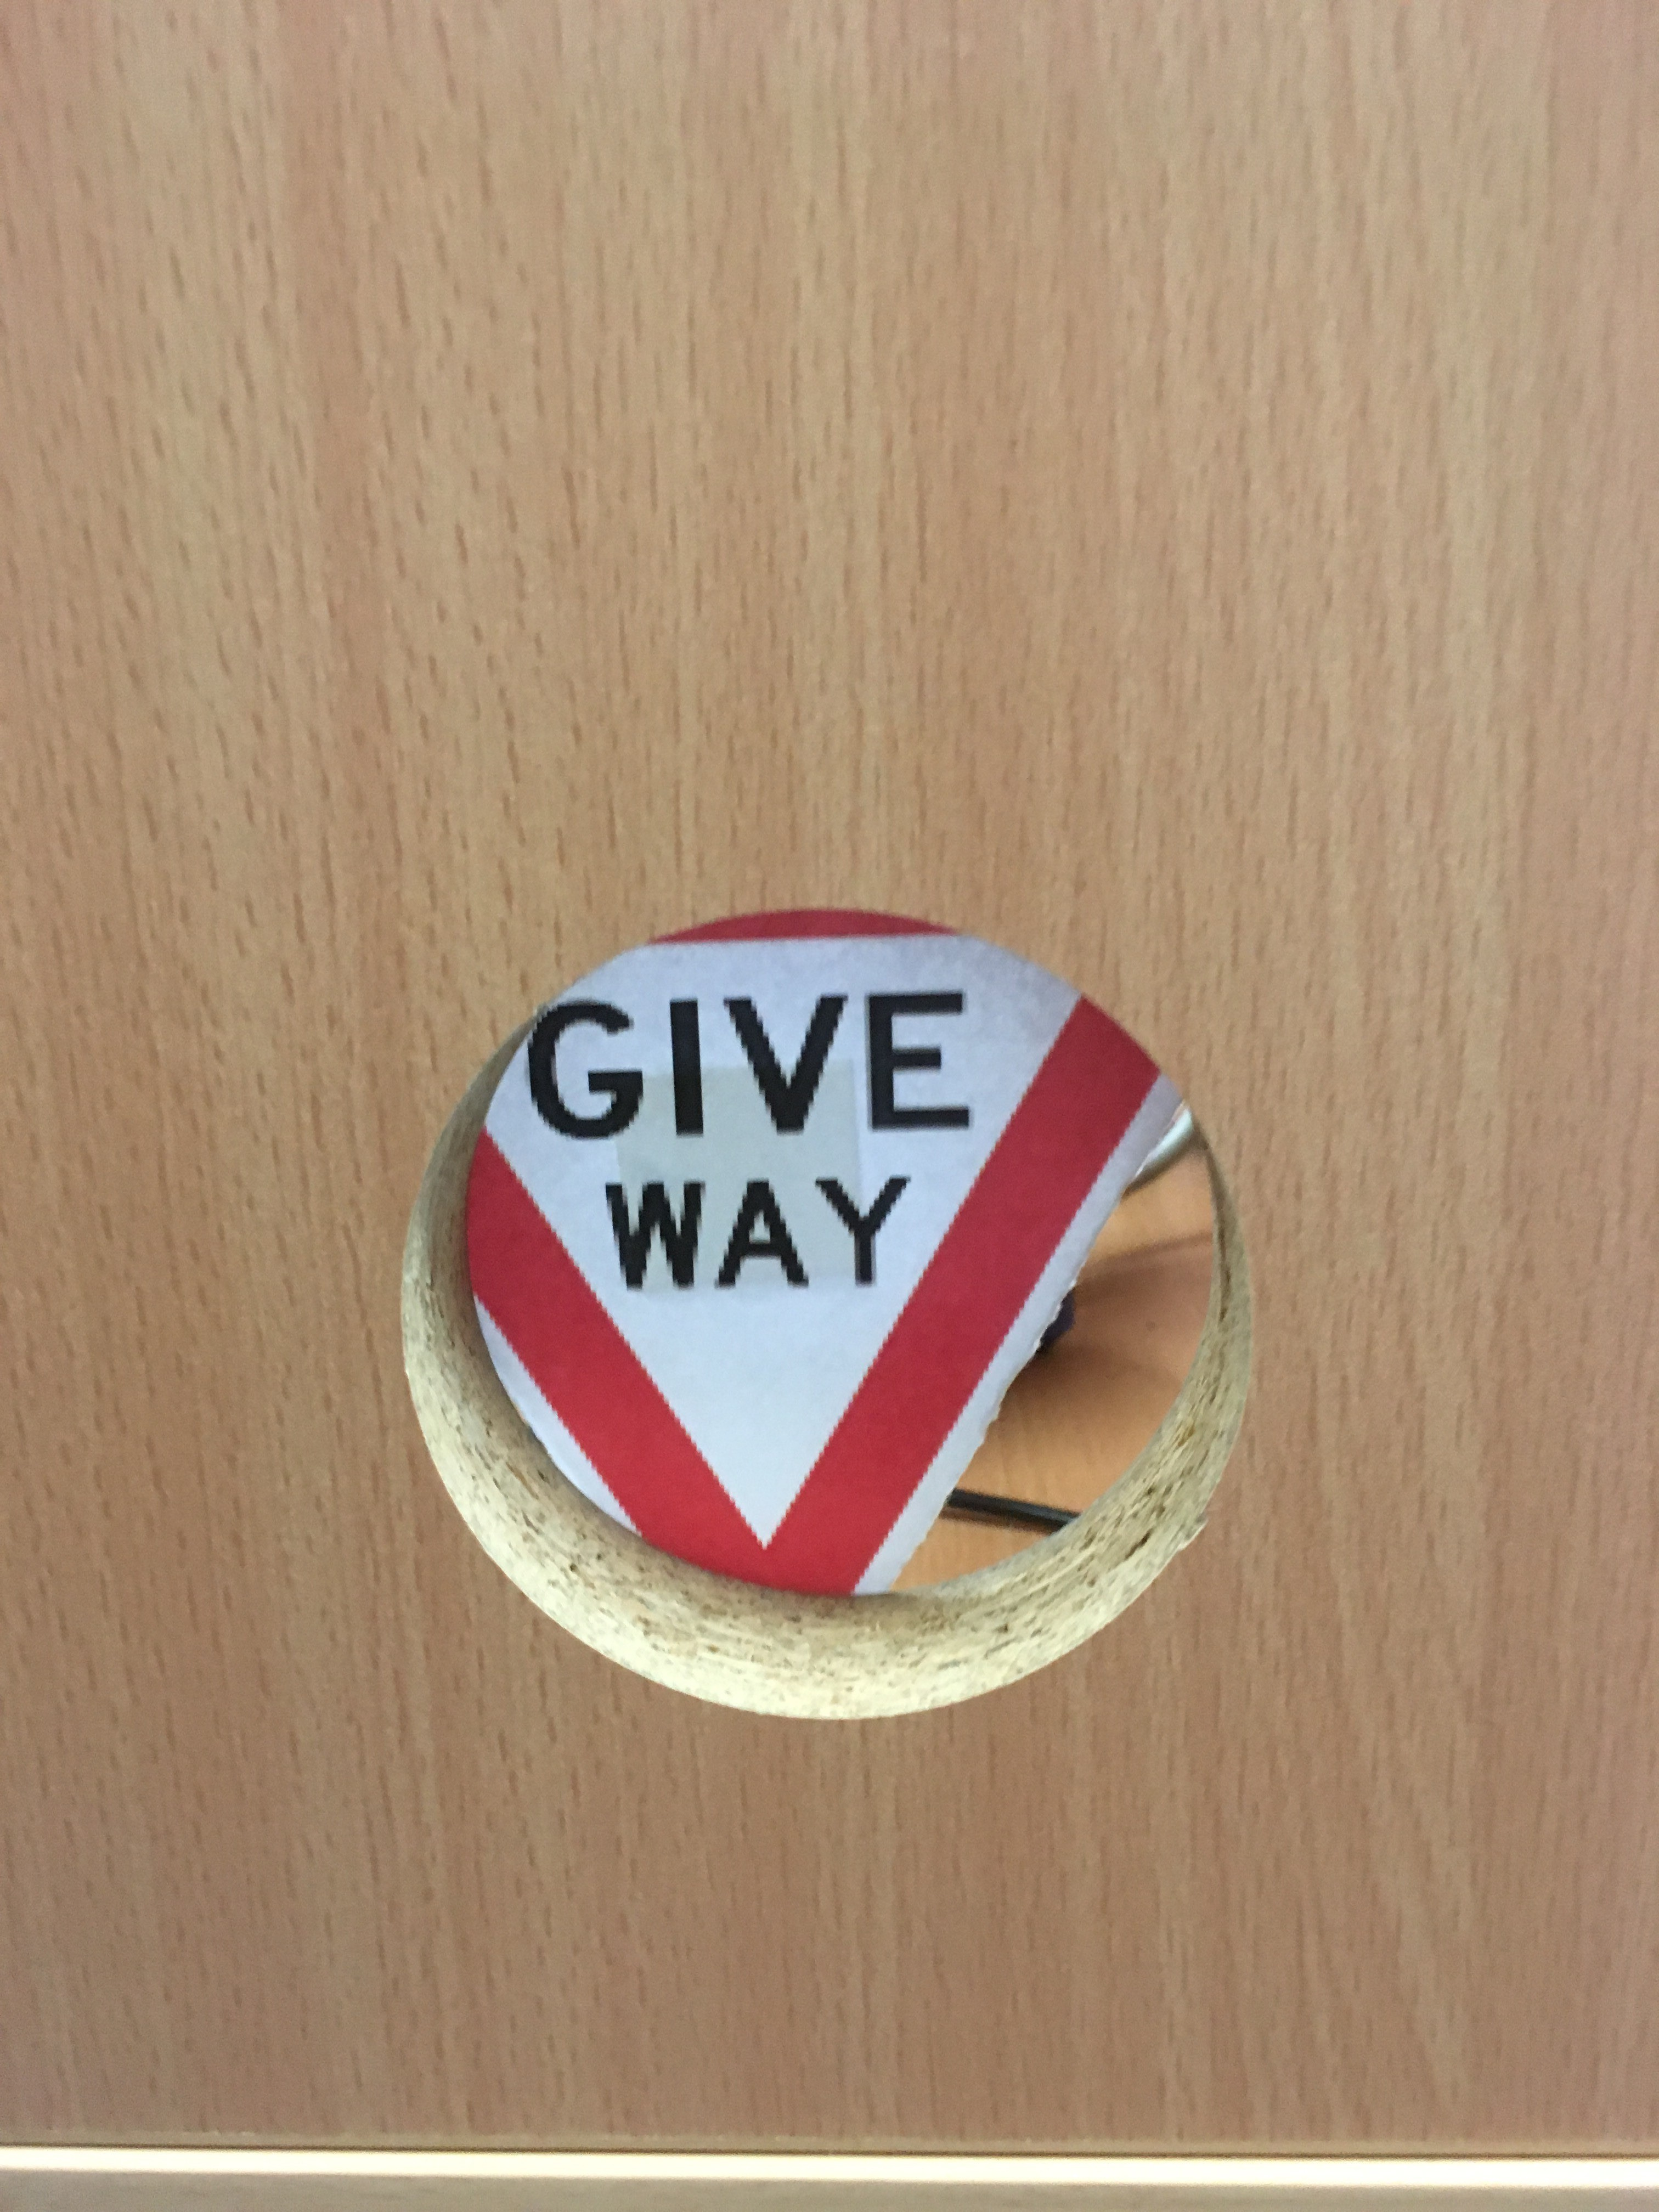giveway: (446, 920, 1162, 1623), (523, 1010, 1004, 1540)
